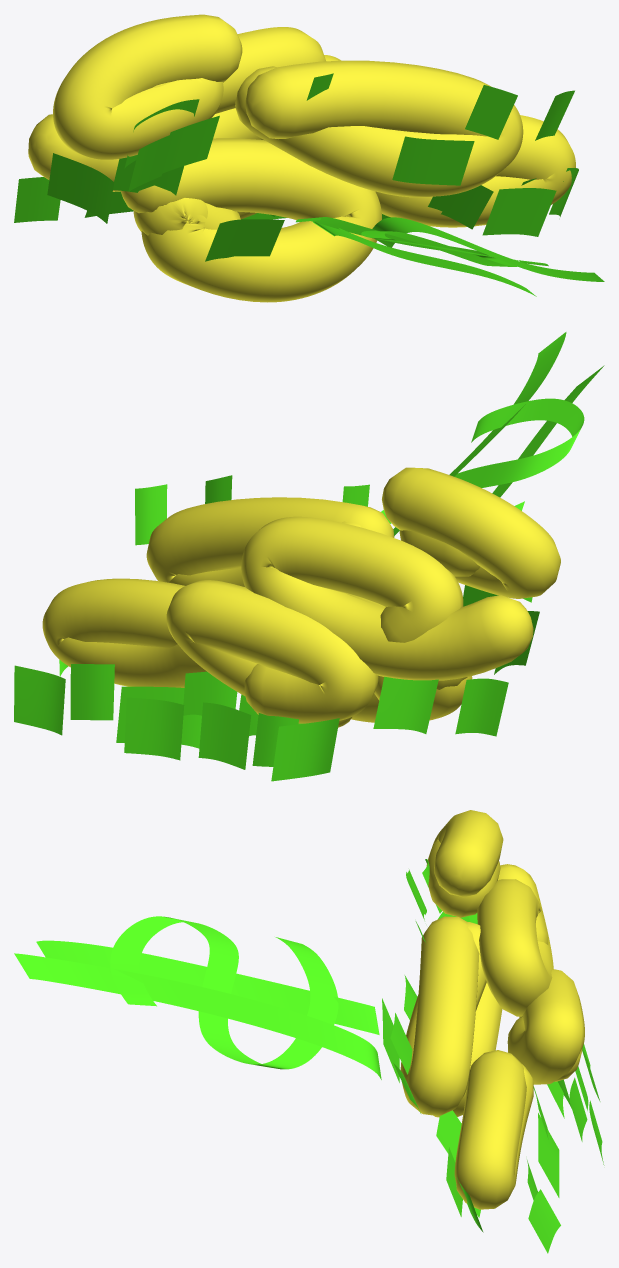
The model's file is moeny.obj.
The picture shows the model from 3 angles, top to bottom: view 1: azimuth 30°, elevation 25°; view 2: azimuth 150°, elevation 25°; view 3: azimuth 270°, elevation 25°; orthographic projection. The views are drawn at different scales.
Visible parts, largest first — view 1: s.0009, s.0010, s.0012, s.0013, s.0011, s.0022, s.0023, s.0032, s.0021, s.0041, s.0043, s.0037 (+9 smaller); view 2: s.0013, s.0014, s.0012, s.0011, s.0010, s.0041, s.0025, s.0030, s.0018, s.0019, s.0029, s.0031 (+9 smaller); view 3: s.0010, s.0011, s.0041, s.0043, s.0013, s.0012, s.0014, s.0042, s.0009, s.0018, s.0017, s.0015 (+2 smaller).
Boxes of the visible parts, x1=… form: s.0009: x1=120, y1=138, x2=381, y2=302; s.0010: x1=235, y1=60, x2=523, y2=197; s.0012: x1=53, y1=14, x2=242, y2=159; s.0013: x1=28, y1=27, x2=325, y2=191; s.0011: x1=375, y1=115, x2=575, y2=227; s.0022: x1=392, y1=136, x2=474, y2=185; s.0023: x1=47, y1=153, x2=114, y2=223; s.0032: x1=482, y1=188, x2=556, y2=236; s.0021: x1=205, y1=219, x2=284, y2=261; s.0041: x1=296, y1=217, x2=548, y2=266; s.0043: x1=372, y1=217, x2=604, y2=281; s.0037: x1=162, y1=115, x2=219, y2=173; s.0013: x1=241, y1=516, x2=533, y2=680; s.0014: x1=166, y1=580, x2=378, y2=727; s.0012: x1=382, y1=467, x2=560, y2=598; s.0011: x1=42, y1=578, x2=206, y2=687; s.0010: x1=146, y1=497, x2=394, y2=586; s.0041: x1=381, y1=398, x2=584, y2=523; s.0025: x1=271, y1=718, x2=339, y2=781; s.0030: x1=124, y1=697, x2=184, y2=760; s.0018: x1=14, y1=665, x2=65, y2=735; s.0019: x1=373, y1=676, x2=438, y2=733; s.0029: x1=198, y1=702, x2=251, y2=769; s.0031: x1=70, y1=664, x2=114, y2=720; s.0010: x1=400, y1=916, x2=486, y2=1116; s.0011: x1=454, y1=1050, x2=533, y2=1209; s.0041: x1=110, y1=916, x2=338, y2=1069; s.0043: x1=14, y1=953, x2=381, y2=1079; s.0013: x1=477, y1=864, x2=553, y2=1016; s.0012: x1=426, y1=810, x2=503, y2=917; s.0014: x1=507, y1=969, x2=584, y2=1084; s.0042: x1=36, y1=940, x2=379, y2=1034; s.0009: x1=434, y1=982, x2=502, y2=1117; s.0018: x1=528, y1=1189, x2=560, y2=1253; s.0017: x1=538, y1=1113, x2=559, y2=1197; s.0015: x1=436, y1=1110, x2=461, y2=1162.
Size of the model in its own units: 13.64 by 7.87 by 15.92.
